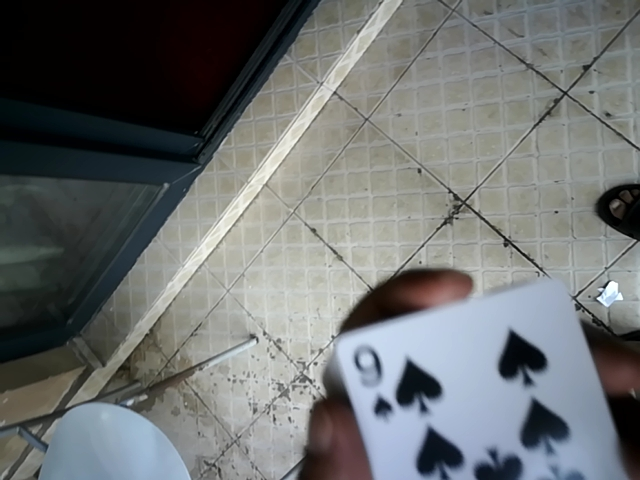ht 9: (321, 273, 627, 478)
